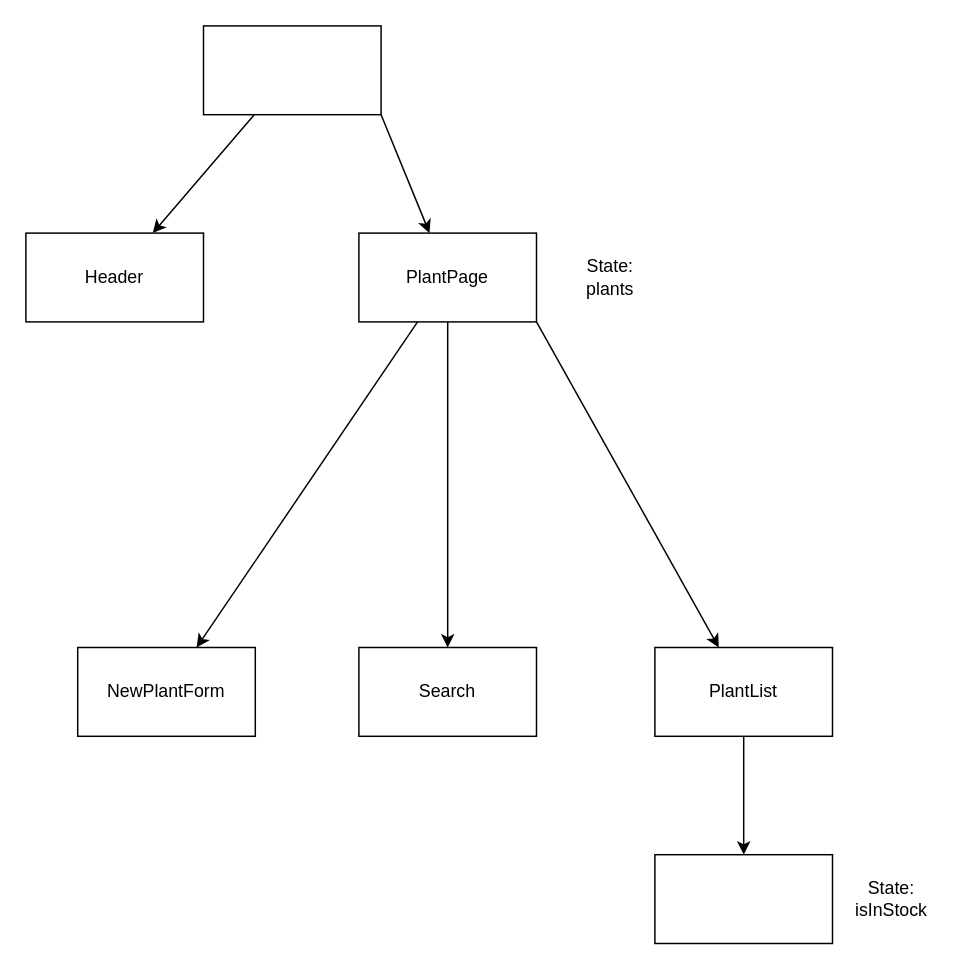
This 962x969 diagram has some shape labels left out. The shapes that lost their labels are listed below. From the top down, each one's centre as x and y in pixels, then its label:
At (291,69): "App".
At (742,898): "PlantCard".
